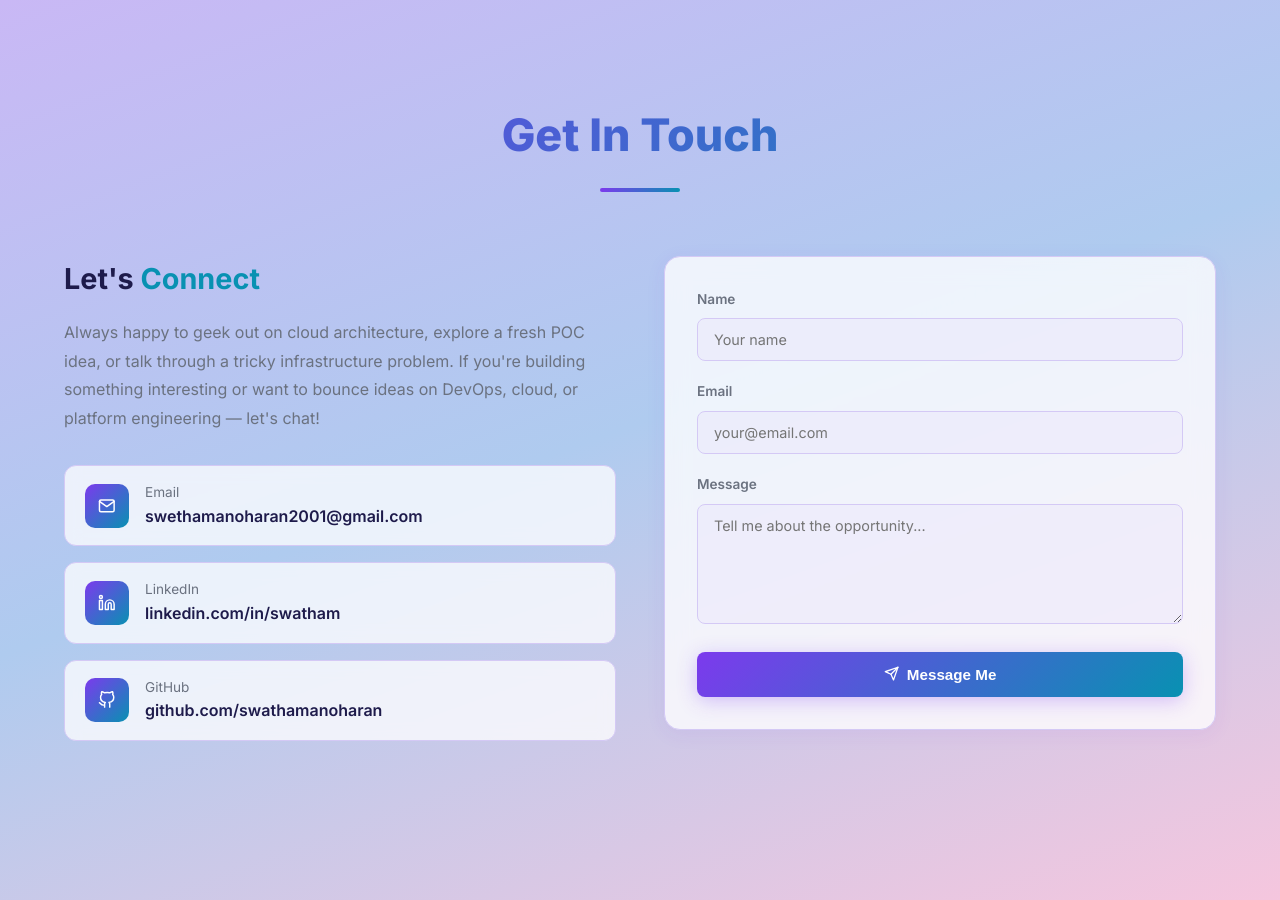
Test: Contact form › shows error message when submit fails
Type "Swatha" into the field labelled "Name".
click(940, 340); type("Swatha")  # box 697,318 -> 1183,361
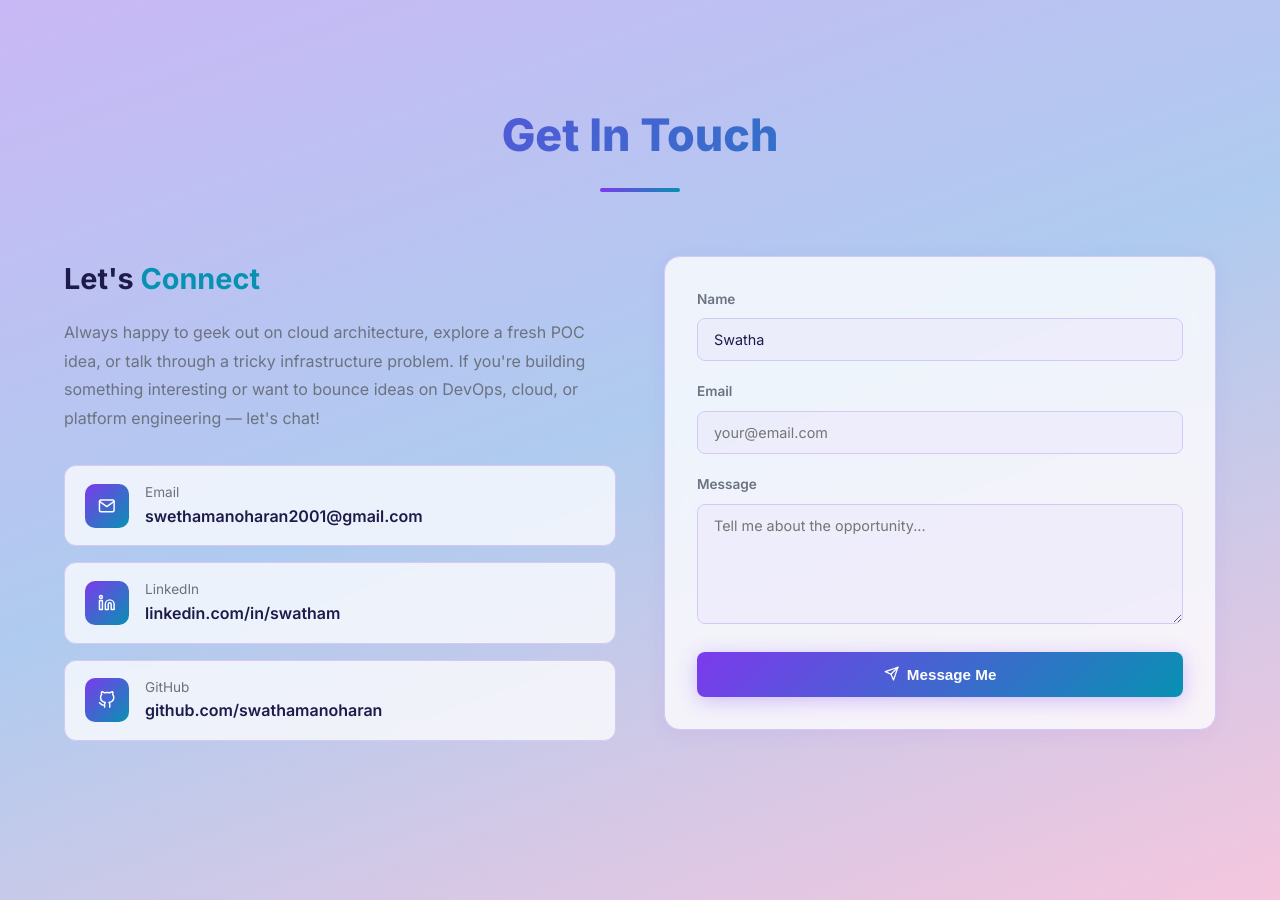
Type "swatha@example.com" into the field labelled "Email".
click(940, 433); type("swatha@example.com")  # box 697,411 -> 1183,454
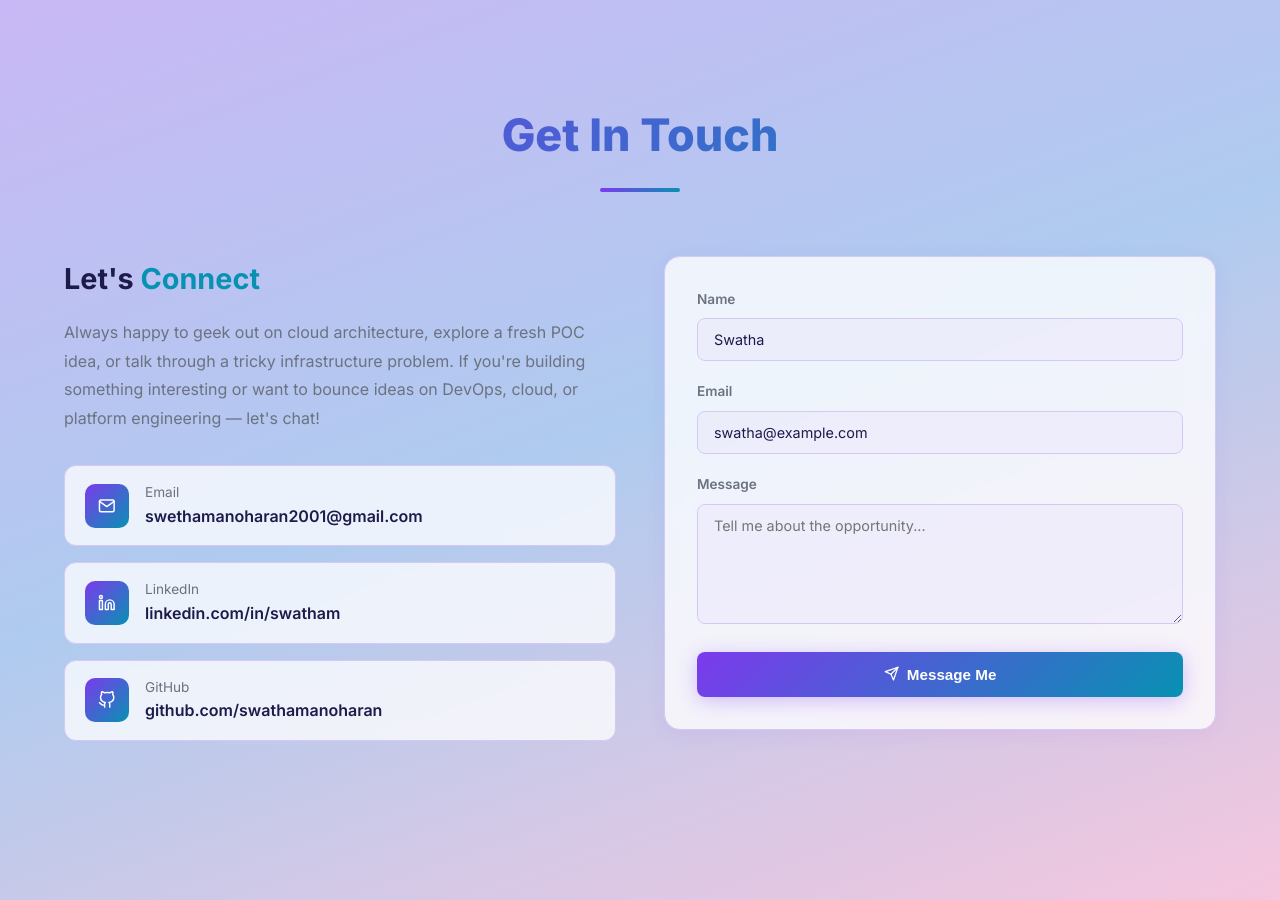
Type "Hello there" into the text box labelled "Message".
click(940, 564); type("Hello there")  # box 697,504 -> 1183,624
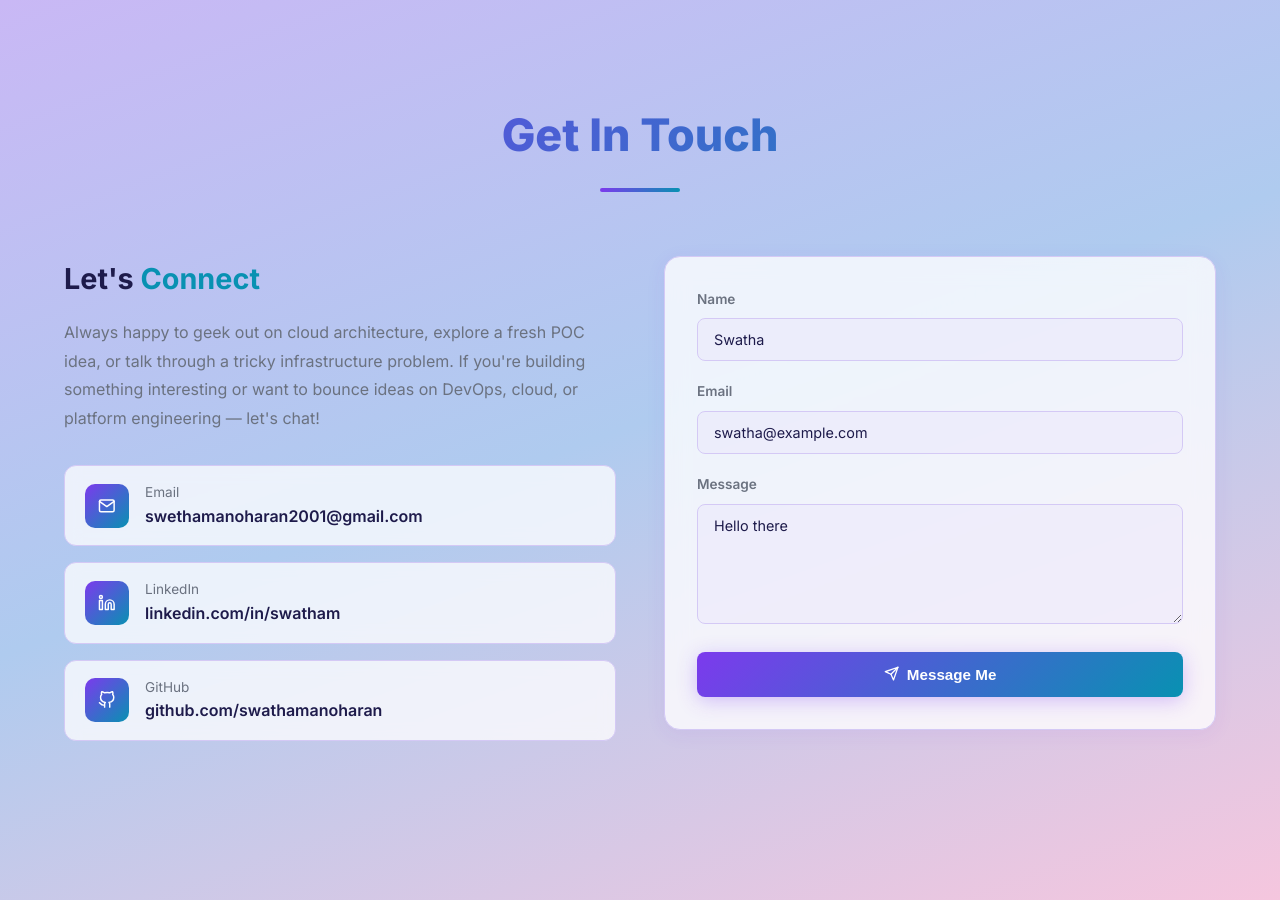
Click the button "Message Me".
click(940, 674)  # box 697,652 -> 1183,696
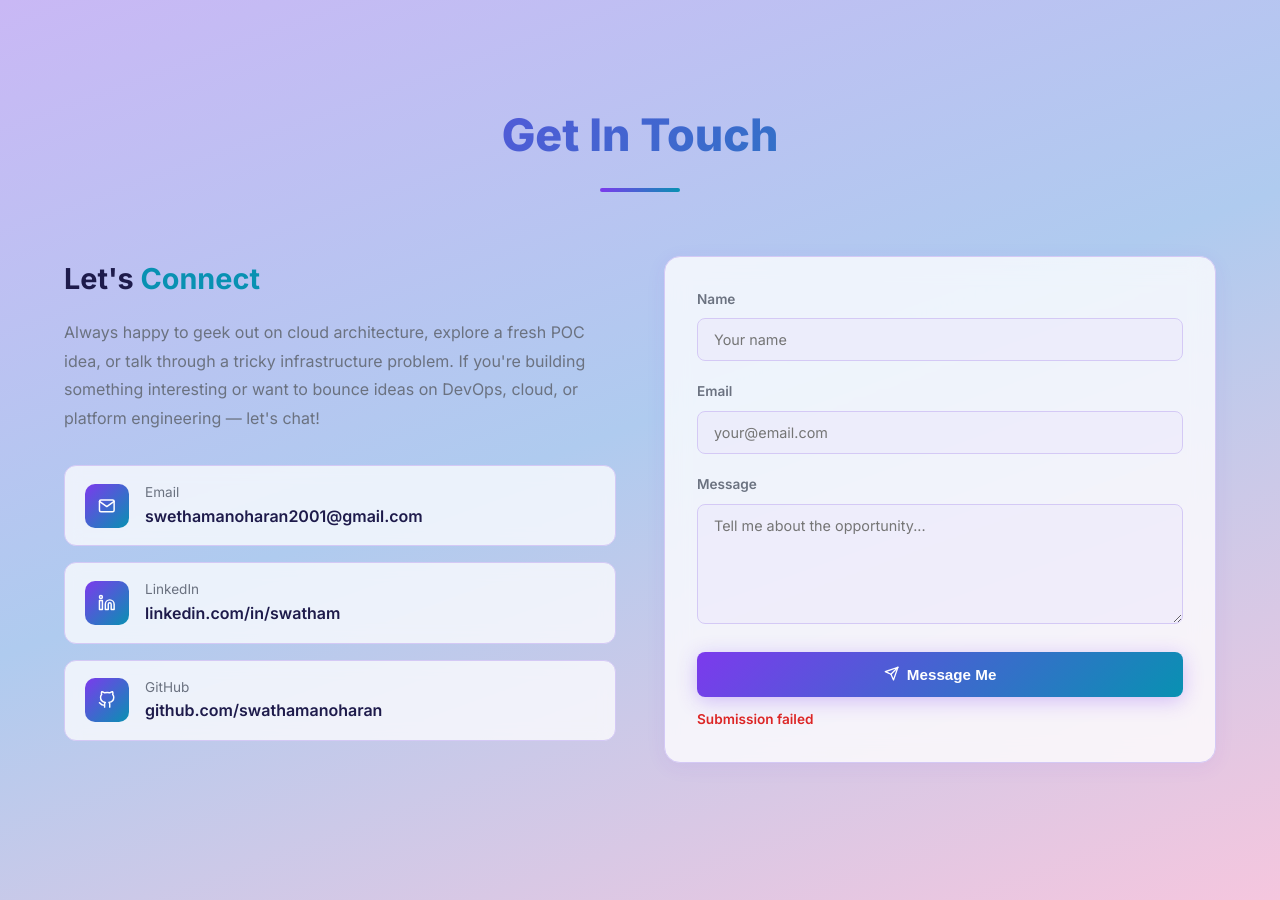
expect the text "Submission failed" is shown: met, box 697,710 -> 813,726
